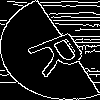R: (25, 25, 99, 79)
